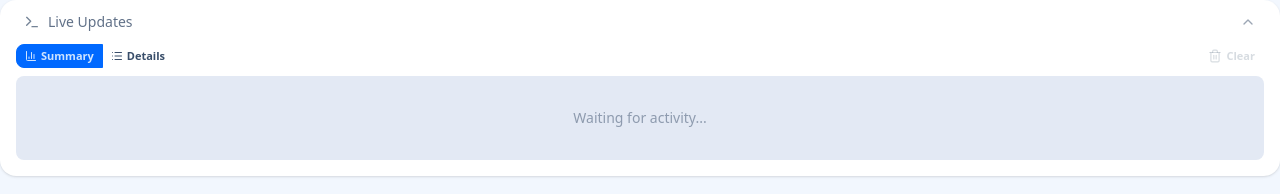
Test: AgentTerminal › renders empty state in Details view when no messages
Click the button "Details" at (138, 56), box left=102, top=44, right=174, bottom=68
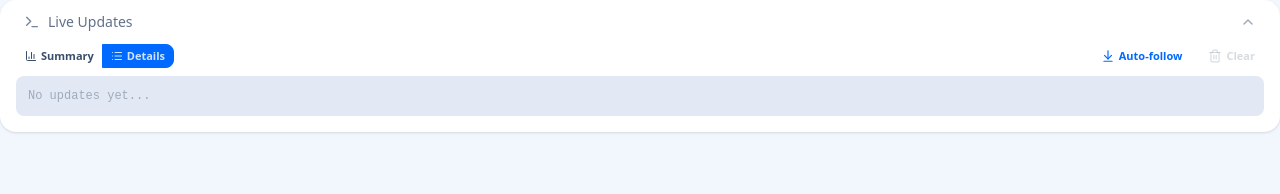
expect the text "No updates yet..." is shown: met, box left=28, top=89, right=150, bottom=103
